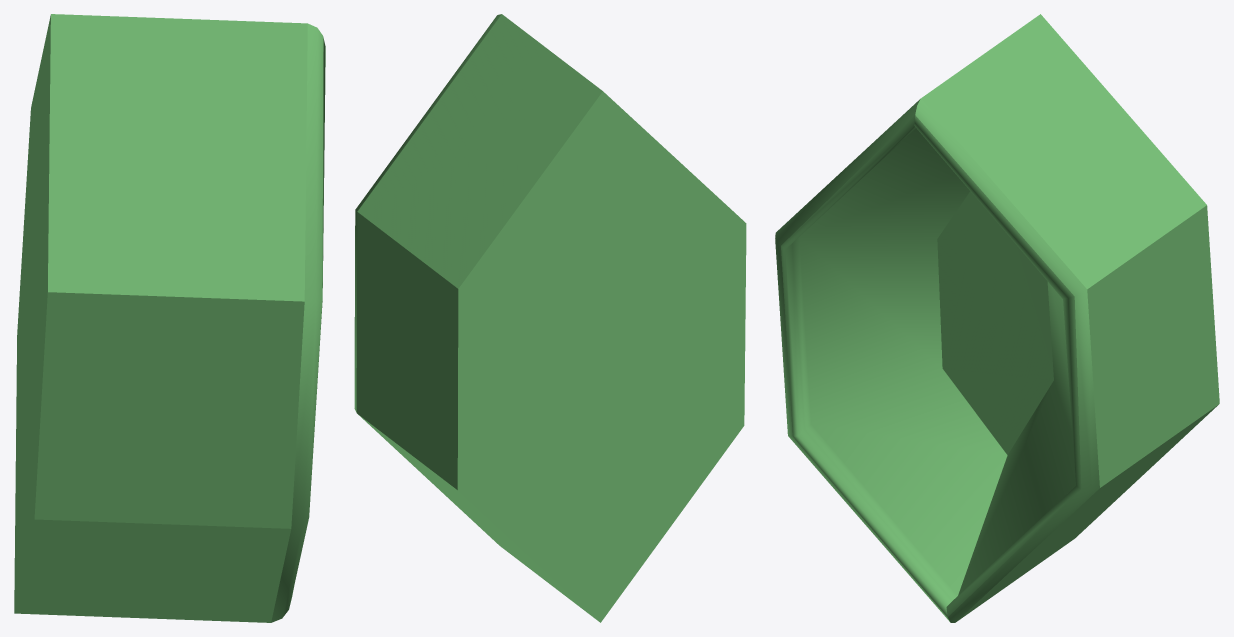
File: BR4_8shapes_Hex_Classic_Metal.001 2.glb
3 renders of one model, left to right at view 1: azimuth 30°, elevation 25°; view 2: azimuth 150°, elevation 25°; view 3: azimuth 270°, elevation 25°, orthographic. The views are drawn at different scales.
Visible parts, largest first — view 1: BR4_8shapes_Hex_Classic_Metal.001; view 2: BR4_8shapes_Hex_Classic_Metal.001; view 3: BR4_8shapes_Hex_Classic_Metal.001.
Part boxes in pixels (left/top/right/bottom): BR4_8shapes_Hex_Classic_Metal.001: left=14, top=14, right=325, bottom=622; BR4_8shapes_Hex_Classic_Metal.001: left=354, top=14, right=746, bottom=622; BR4_8shapes_Hex_Classic_Metal.001: left=775, top=14, right=1219, bottom=622.
Bounding box in the file's own units: 0.4437 × 0.7169 × 0.5388.
